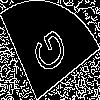G: (24, 25, 70, 83)
